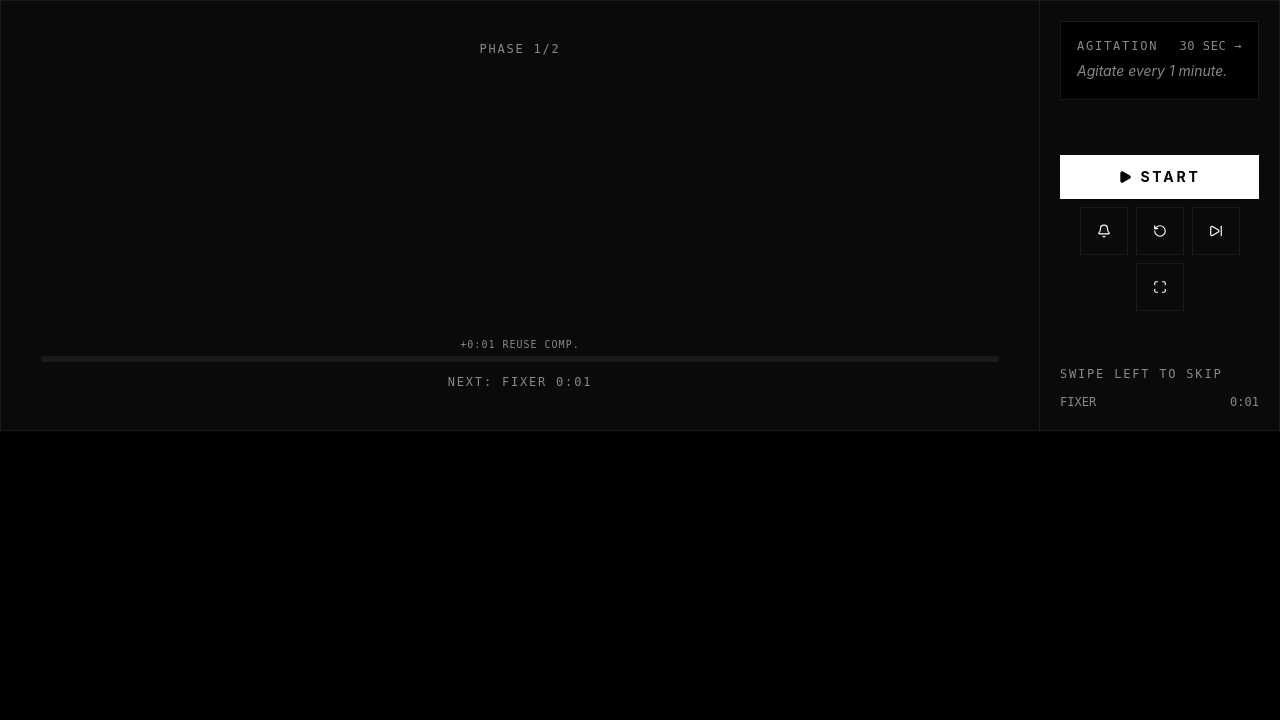
Test: Timer › enters fullscreen from the dedicated fullscreen button, including after compensation changes
Click the button named "enter fullscreen" at (1160, 287), box [1136,263,1184,311]
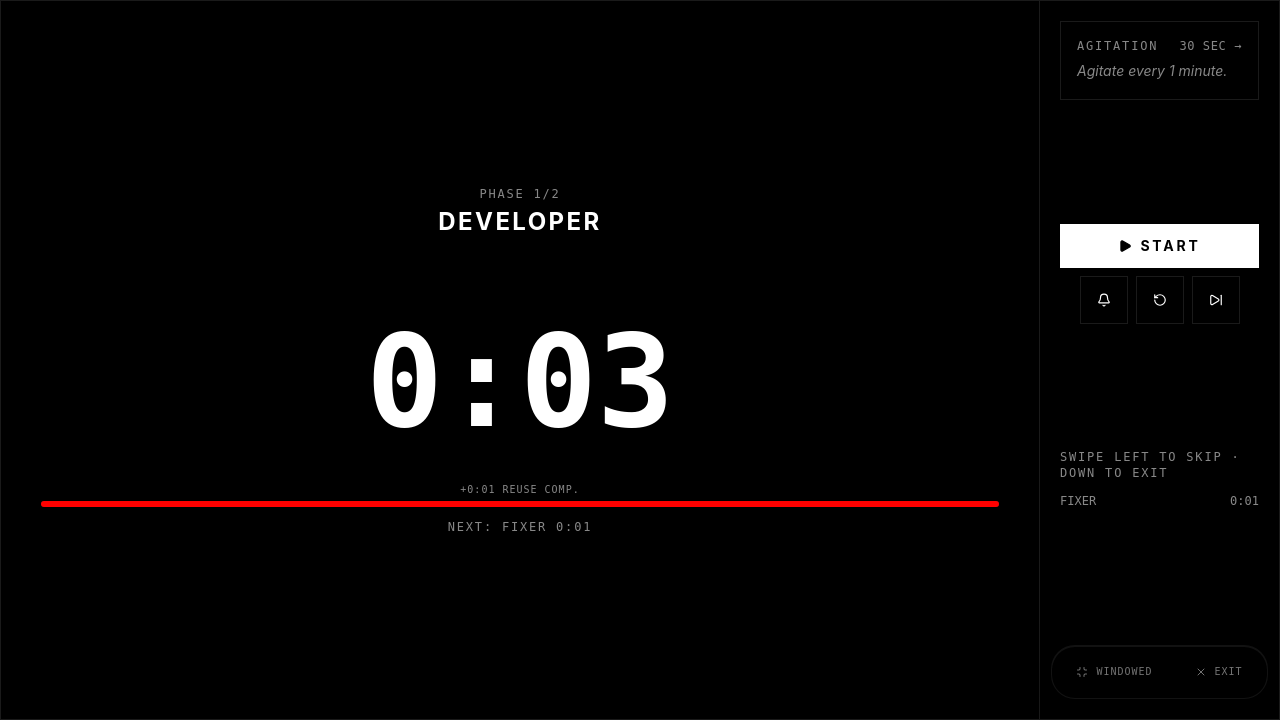
Result: the button with aria-label "leave fullscreen" is shown at [1056,650,1173,694]
